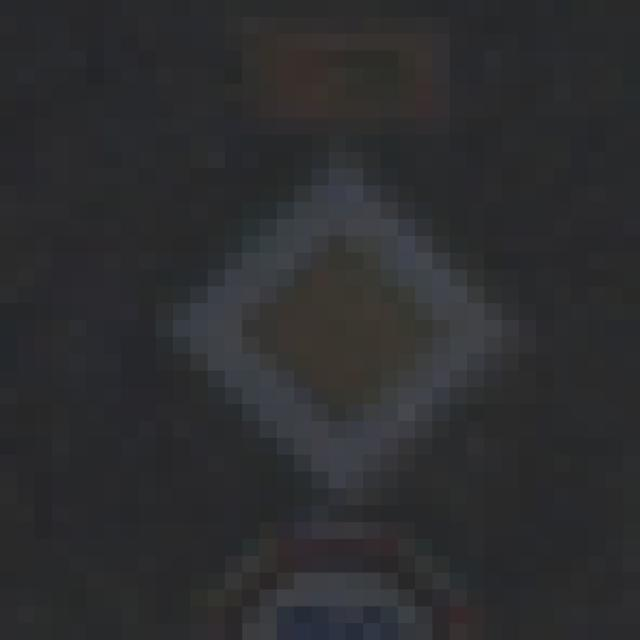Main Road: (105, 102, 537, 540)
